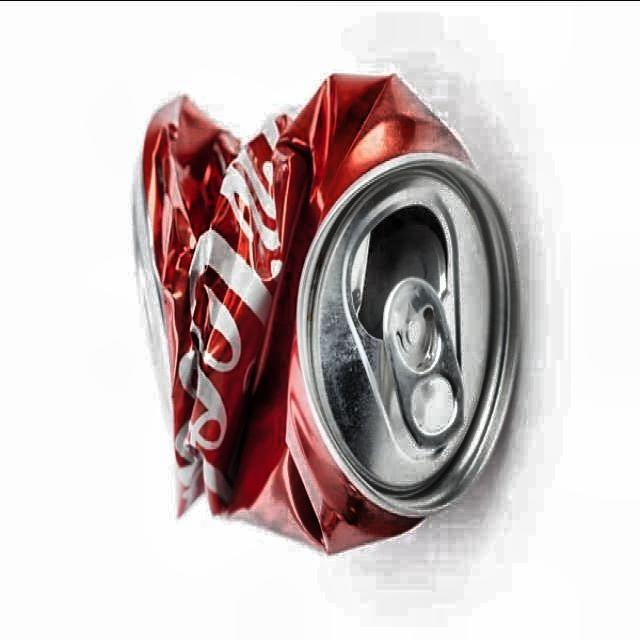metal: (136, 74, 523, 559)
